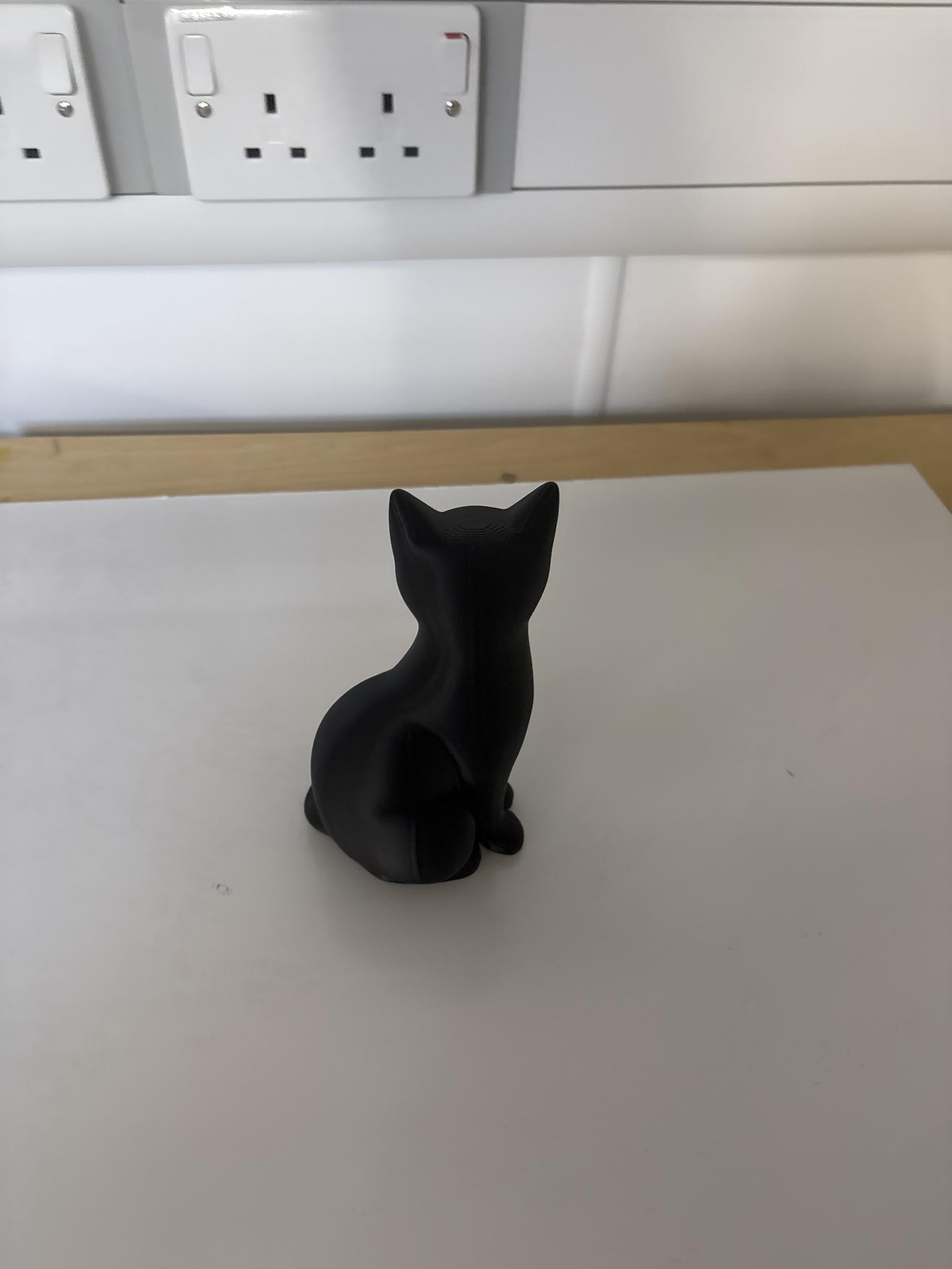cat: (305, 483, 558, 883)
